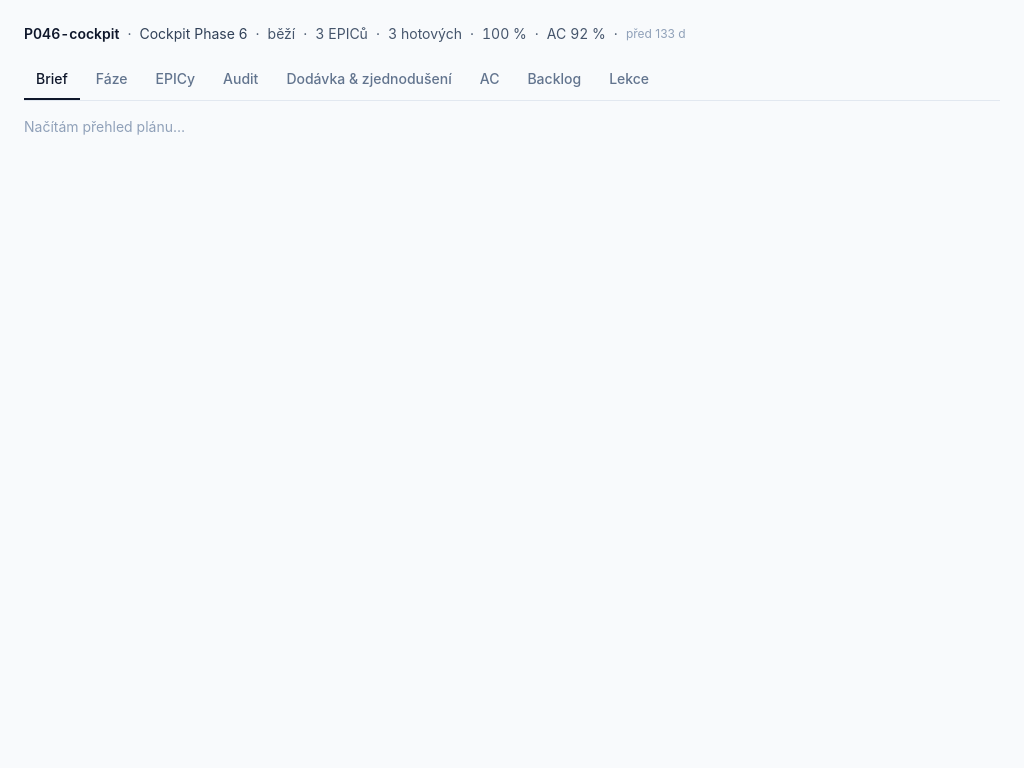
Test: ScreenPlan — plan detail tabs › Audit tab renders boundaryAudit (84) and aggregateAudit (89) as two distinct labelled numbers + a broken trend
Expected: the element that starts with "P046-cockpit" is shown, [24,25,686,42]
What coordinates should you click on to do the following:
click the tab "Audit"
I would click on:
 (241, 80)
Its box is [211,60,270,100].
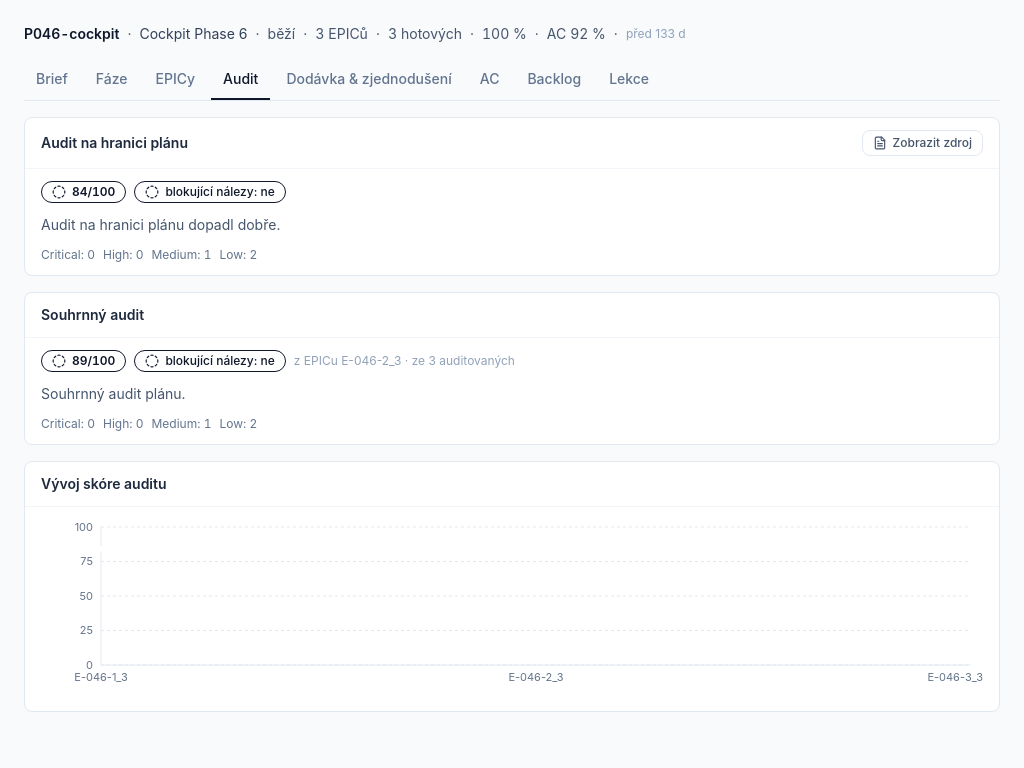
Expected: the element that starts with "Audit na hranici plánu" is shown, [24,117,1000,276]
Expected: the text "84/100" is shown, [41,181,126,203]
Expected: the text "89/100" is shown, [41,350,126,372]
